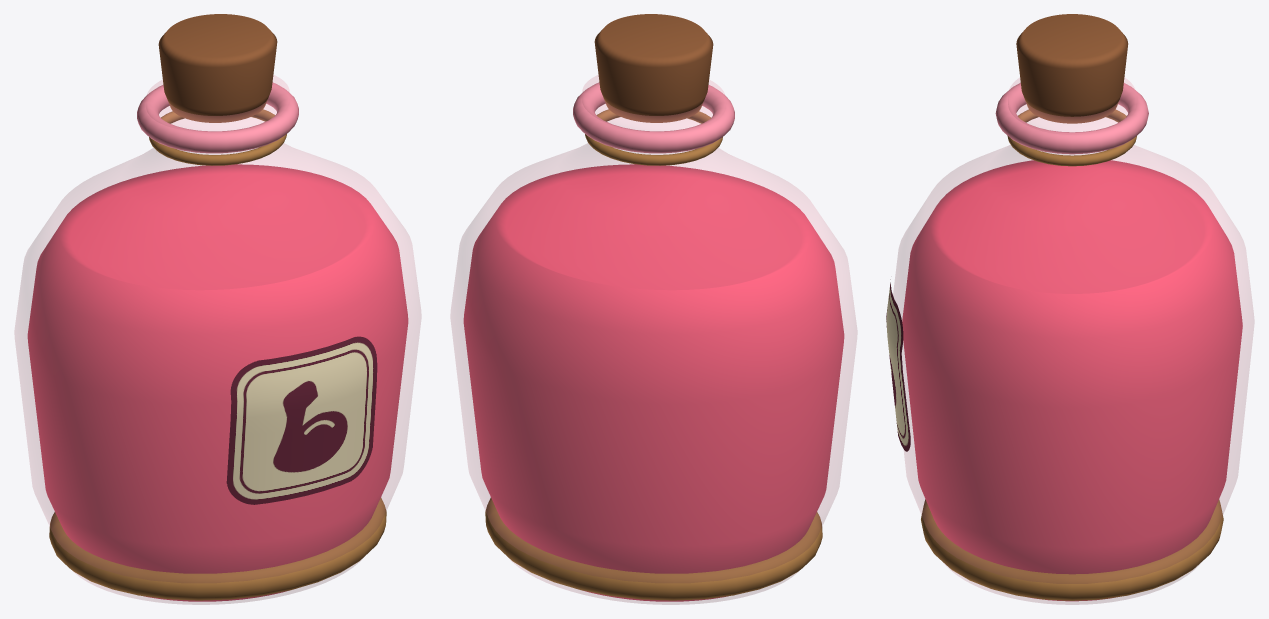
File: potion_power.glb
3 views of the same model, side by side, from view 1: azimuth 30°, elevation 25°; view 2: azimuth 150°, elevation 25°; view 3: azimuth 270°, elevation 25° (orthographic).
Visible parts, largest first — view 1: Glass, Liquid, FrontLabel, Stopper, ReinforcedBase, NeckRim, NeckBand; view 2: Glass, Liquid, Stopper, ReinforcedBase, NeckRim, NeckBand; view 3: Glass, Liquid, Stopper, ReinforcedBase, NeckRim, FrontLabel, NeckBand.
Part boxes in pixels (x1=…): Glass: x1=14, y1=75, x2=421, y2=604; Liquid: x1=27, y1=164, x2=408, y2=601; FrontLabel: x1=226, y1=336, x2=377, y2=504; Stopper: x1=158, y1=14, x2=277, y2=122; ReinforcedBase: x1=49, y1=497, x2=386, y2=600; NeckRim: x1=137, y1=82, x2=298, y2=153; NeckBand: x1=149, y1=109, x2=286, y2=165; Glass: x1=450, y1=75, x2=857, y2=604; Liquid: x1=463, y1=164, x2=844, y2=601; Stopper: x1=594, y1=14, x2=713, y2=122; ReinforcedBase: x1=485, y1=497, x2=822, y2=600; NeckRim: x1=573, y1=82, x2=734, y2=153; NeckBand: x1=585, y1=109, x2=722, y2=165; Glass: x1=893, y1=78, x2=1254, y2=604; Liquid: x1=902, y1=160, x2=1242, y2=601; Stopper: x1=1016, y1=14, x2=1128, y2=123; ReinforcedBase: x1=921, y1=499, x2=1223, y2=600; NeckRim: x1=995, y1=83, x2=1148, y2=154; FrontLabel: x1=886, y1=279, x2=910, y2=451; NeckBand: x1=1007, y1=109, x2=1136, y2=166.
Size of the model in its own units: 0.92 by 1.26 by 0.8176.
Materials: 6 (1 with a texture image).
